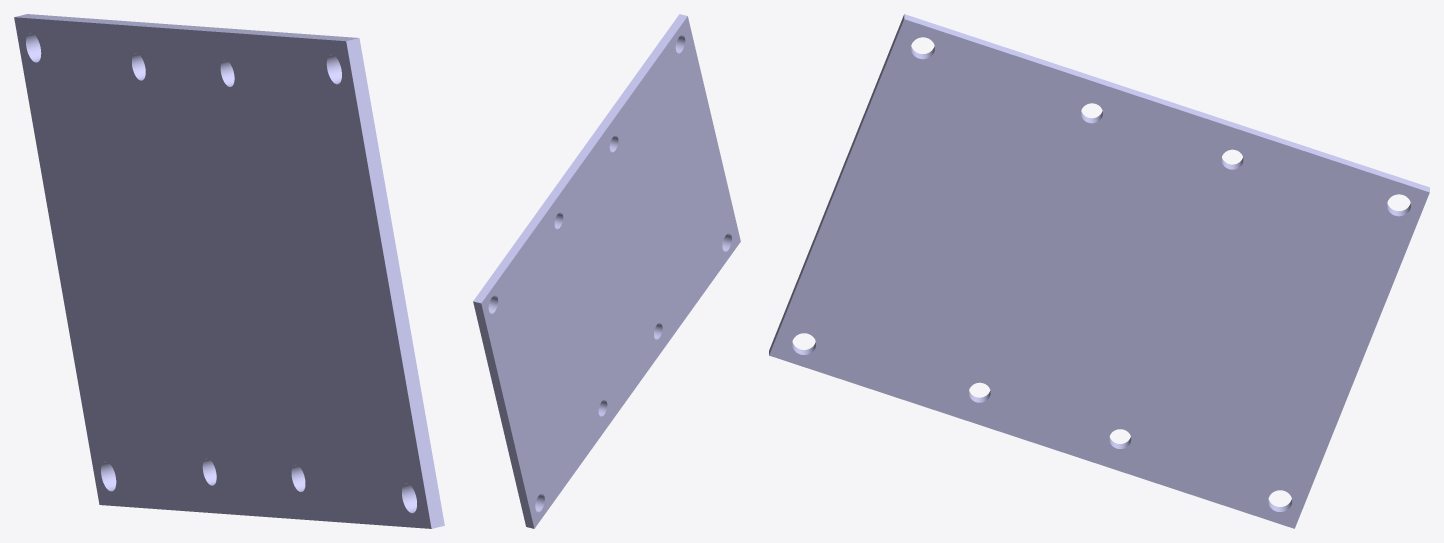
The model's file is EBoxNewAsm_stp_1_IMC413_stp_1_IMC413_24_stp_1_solid1.obj.
3 renders of one model, left to right at view 1: azimuth 30°, elevation 25°; view 2: azimuth 150°, elevation 25°; view 3: azimuth 270°, elevation 25°, orthographic. The views are drawn at different scales.
Visible parts, largest first — view 1: mesh9593, mesh9596, mesh9595; view 2: mesh9593, mesh9595, mesh9594; view 3: mesh9592, mesh9595, mesh9596.
Boxes of the visible parts, <box> form: mesh9593: <box>14,17,431,528</box>; mesh9596: <box>346,38,444,528</box>; mesh9595: <box>14,14,358,41</box>; mesh9593: <box>481,16,740,528</box>; mesh9595: <box>473,14,687,303</box>; mesh9594: <box>473,301,534,528</box>; mesh9592: <box>769,19,1429,528</box>; mesh9595: <box>904,14,1429,192</box>; mesh9596: <box>769,14,904,355</box>.
Bounding box in the file's own units: 0.0016 × 0.074 × 0.087.
